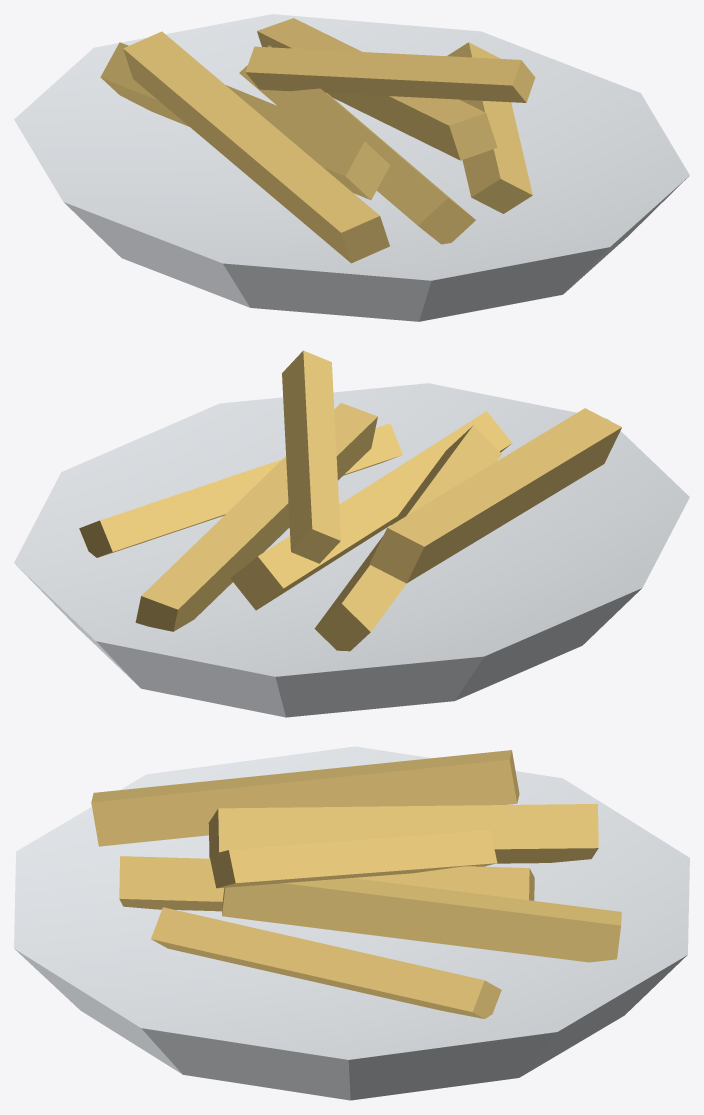
File: chips.fbx
The picture shows the model from 3 angles, top to bottom: view 1: azimuth 30°, elevation 25°; view 2: azimuth 150°, elevation 25°; view 3: azimuth 270°, elevation 25°; orthographic projection.
Visible parts, largest first — view 1: chips; view 2: chips; view 3: chips.
Boxes of the visible parts, <box> form: chips: <box>14,14,689,321</box>; chips: <box>14,350,689,717</box>; chips: <box>14,746,689,1100</box>.
Size of the model in its own units: 40.48 by 12.48 by 40.68.
1 material, 1 textured.
